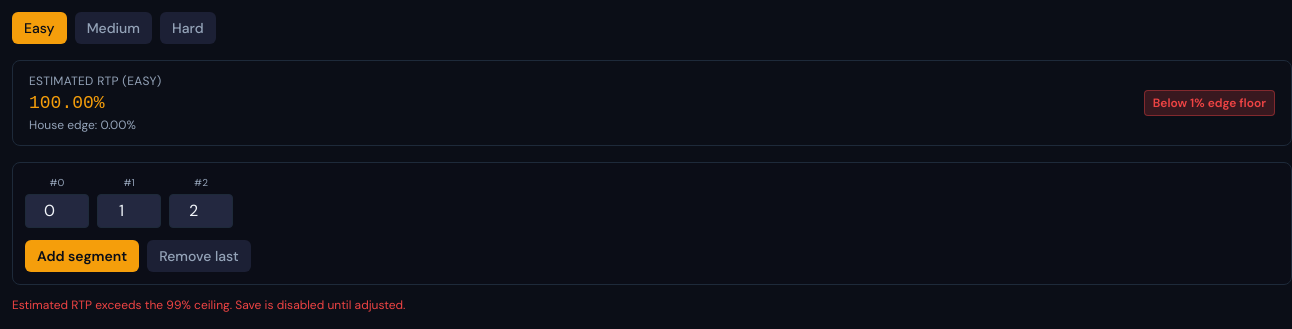
Test: WheelPayoutEditor › switches difficulty tabs and shows the matching segments
The image size is (1292, 329).
Click the tab with test id "wheel-tab-hard". click: (188, 28)
box: top-left (160, 12), bottom-right (216, 44)
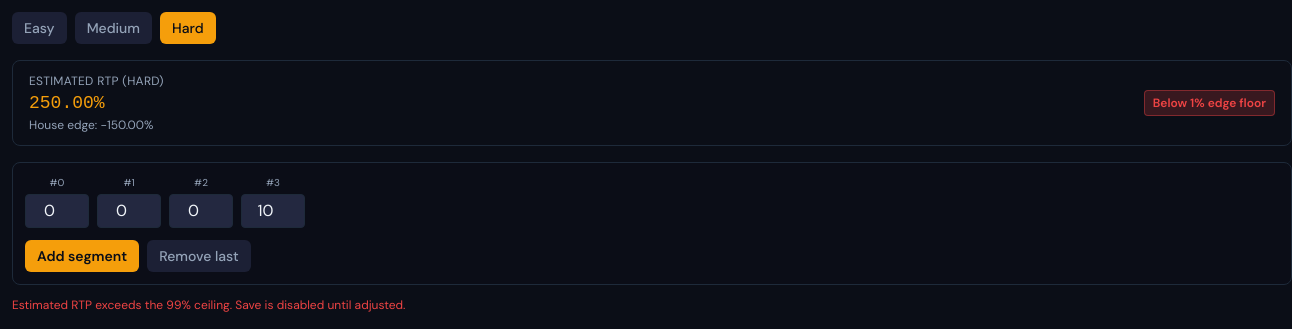
Now the number field with test id "wheel-input-hard-3" is shown, box top-left (241, 194), bottom-right (305, 228)
